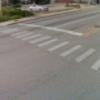crosswalks: (1, 25, 100, 78)
